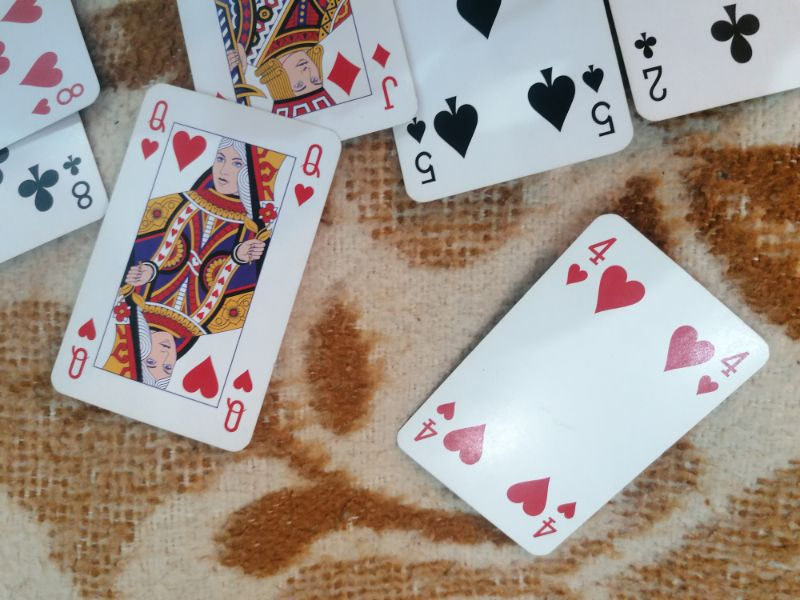2c: (631, 29, 671, 103)
4h: (564, 232, 622, 292), (693, 346, 753, 399), (411, 398, 460, 448), (528, 498, 582, 543)
5s: (580, 58, 619, 138), (403, 115, 442, 189)
8c: (59, 150, 98, 211)
8h: (29, 77, 90, 119)
Jd: (367, 38, 401, 112)
Qh: (218, 366, 258, 436), (63, 315, 102, 385), (135, 98, 174, 165), (291, 140, 328, 209)
